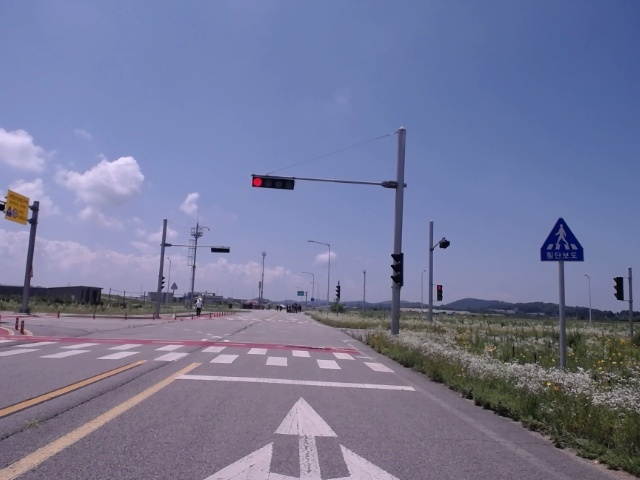red_4: (252, 176, 294, 190)
